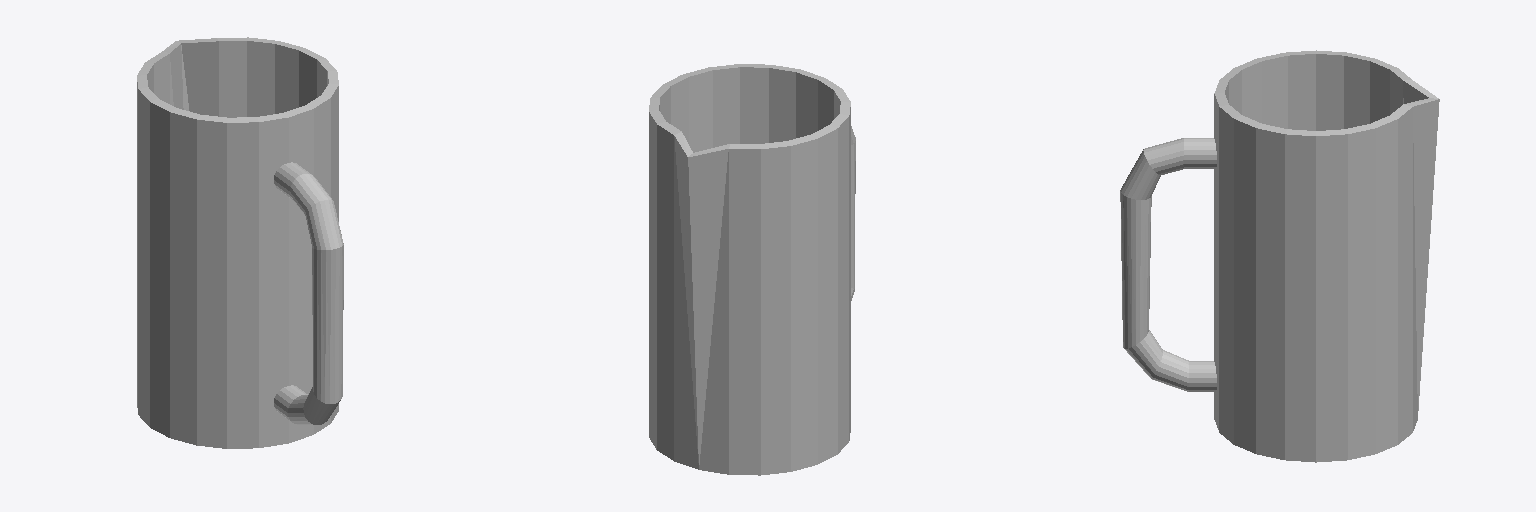
The picture shows the model from 3 angles: view 1: azimuth 30°, elevation 25°; view 2: azimuth 150°, elevation 25°; view 3: azimuth 270°, elevation 25°; orthographic projection.
Parts seen in each view (by area): view 1: vessel; view 2: vessel; view 3: vessel.
Part boxes in pixels (x1,y1,x2,y2): vessel: (137,37,343,448); vessel: (649,64,855,475); vessel: (1120,50,1439,462).
Bounding box in the file's own units: 9.11 × 16.16 × 14.3.